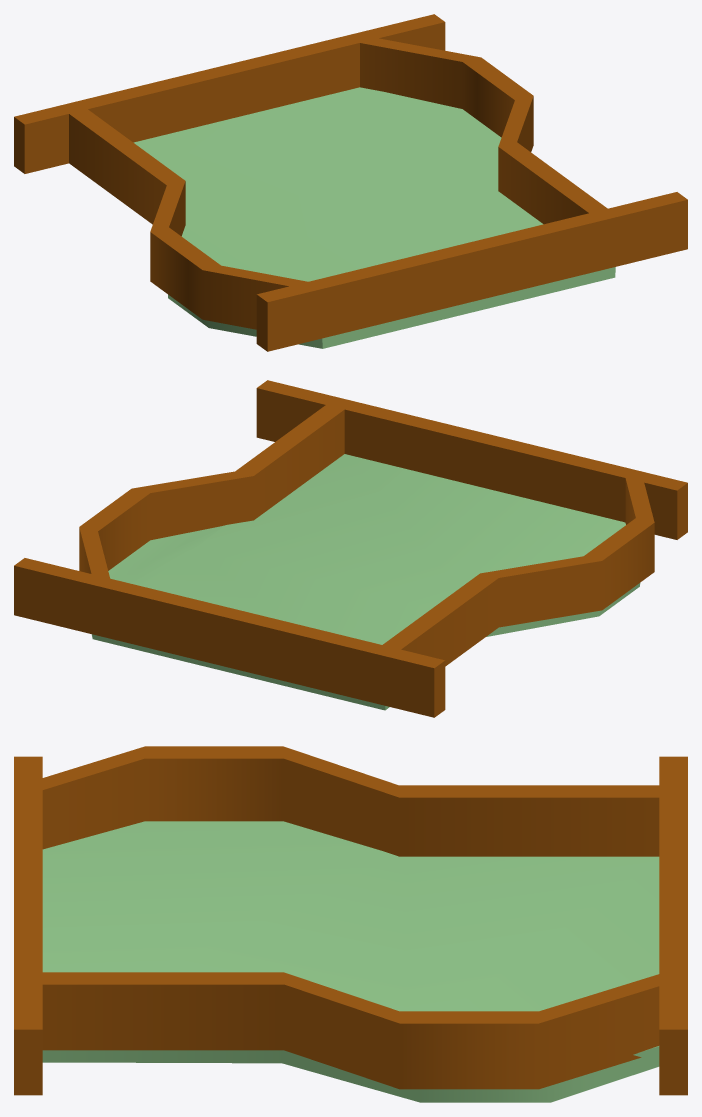
Rendered from HatBilliardsWonkyTable.fbx.
3 views of the same model, one above another, from view 1: azimuth 30°, elevation 25°; view 2: azimuth 150°, elevation 25°; view 3: azimuth 270°, elevation 25° (orthographic). The views are drawn at different scales.
Parts seen in each view (by area): view 1: Würfel, Würfel_4, Würfel_3, Würfel_1, Würfel_2; view 2: Würfel, Würfel_3, Würfel_4, Würfel_1, Würfel_2; view 3: Würfel, Würfel_2, Würfel_1, Würfel_3, Würfel_4.
Boxes of the visible parts, <box> form: Würfel: <box>133,87,615,348</box>; Würfel_4: <box>256,192,687,351</box>; Würfel_3: <box>14,14,445,173</box>; Würfel_1: <box>67,108,327,329</box>; Würfel_2: <box>356,38,615,224</box>; Würfel: <box>91,454,640,710</box>; Würfel_3: <box>14,558,445,717</box>; Würfel_4: <box>256,380,687,539</box>; Würfel_1: <box>380,469,654,666</box>; Würfel_2: <box>79,400,352,579</box>; Würfel: <box>42,821,659,1102</box>; Würfel_2: <box>30,972,659,1089</box>; Würfel_1: <box>19,746,664,856</box>; Würfel_3: <box>659,756,687,1095</box>; Würfel_4: <box>14,756,42,1095</box>.
Size of the model in its own units: 363 by 50.59 by 366.
